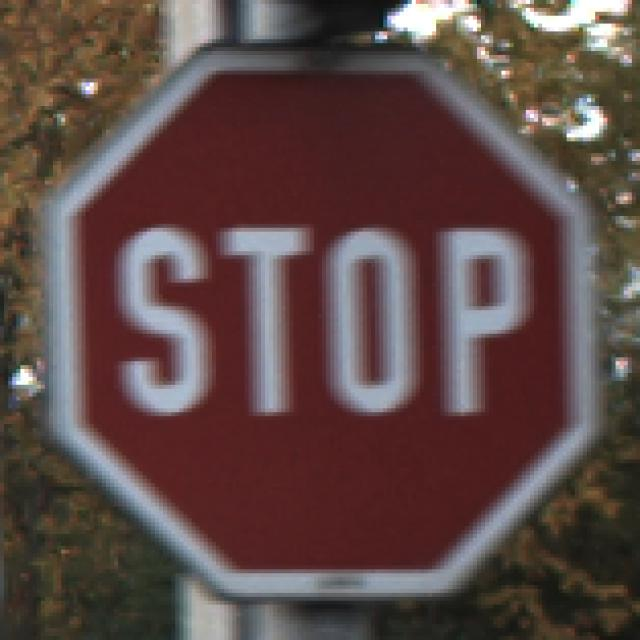STOP: (58, 56, 588, 586)
